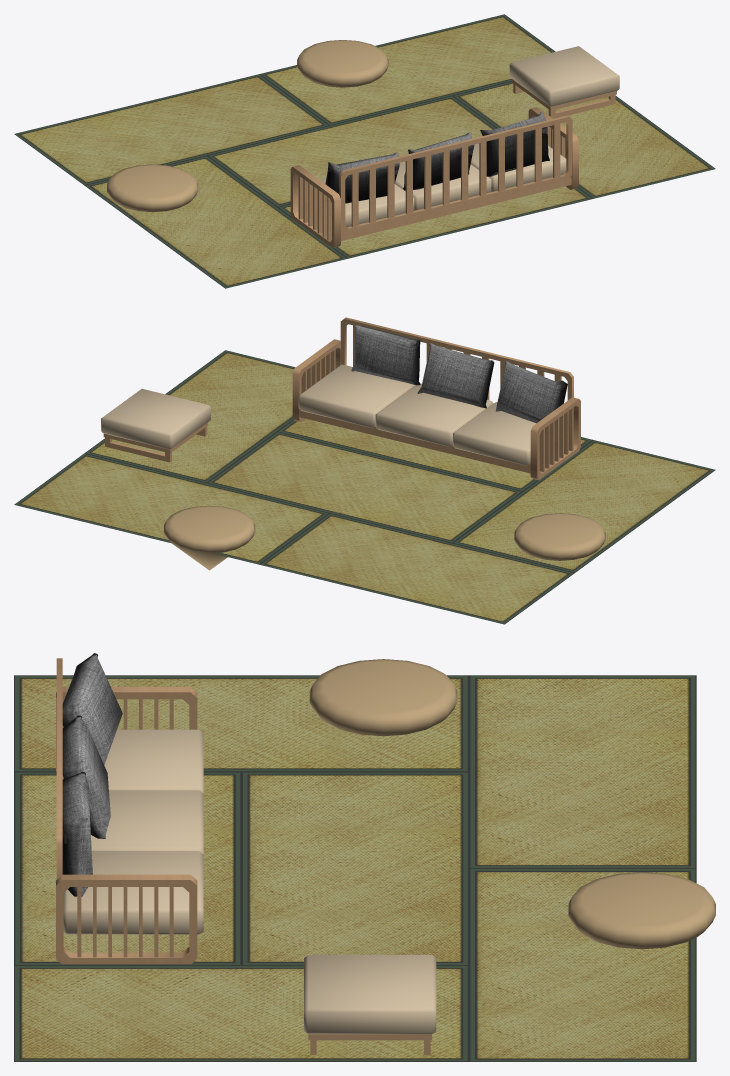
Rendered from M_shafa03.FBX.
The picture shows the model from 3 angles, top to bottom: view 1: azimuth 30°, elevation 25°; view 2: azimuth 150°, elevation 25°; view 3: azimuth 270°, elevation 25°; orthographic projection. The views are drawn at different scales.
Parts seen in each view (by area): view 1: M_shafa03_04, M_shafa03_01, M_shafa03_02, M_shafa03_05, M_shafa03_03; view 2: M_shafa03_04, M_shafa03_02, M_shafa03_01, M_shafa03_03, M_shafa03_05; view 3: M_shafa03_04, M_shafa03_02, M_shafa03_05, M_shafa03_01, M_shafa03_03.
Boxes of the visible parts, box(x1,y1,x2,y2) form: M_shafa03_04: box(14, 14, 715, 288); M_shafa03_01: box(290, 79, 616, 247); M_shafa03_02: box(319, 46, 619, 227); M_shafa03_05: box(107, 40, 388, 212); M_shafa03_03: box(325, 112, 549, 203); M_shafa03_04: box(14, 350, 715, 624); M_shafa03_02: box(101, 364, 536, 465); M_shafa03_01: box(103, 317, 580, 480); M_shafa03_03: box(351, 325, 567, 423); M_shafa03_05: box(163, 505, 605, 570); M_shafa03_04: box(14, 675, 696, 1061); M_shafa03_02: box(63, 729, 436, 1034); M_shafa03_05: box(309, 659, 715, 949); M_shafa03_01: box(56, 658, 431, 1054); M_shafa03_03: box(62, 653, 122, 896).
Bounding box in the file's own units: 8.1 × 1.77 × 6.21.
